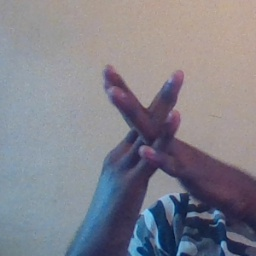W: (76, 51, 228, 223)
